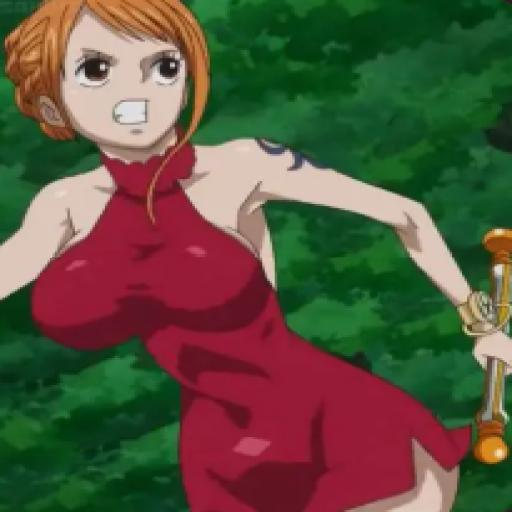Nami: (1, 0, 510, 512)
